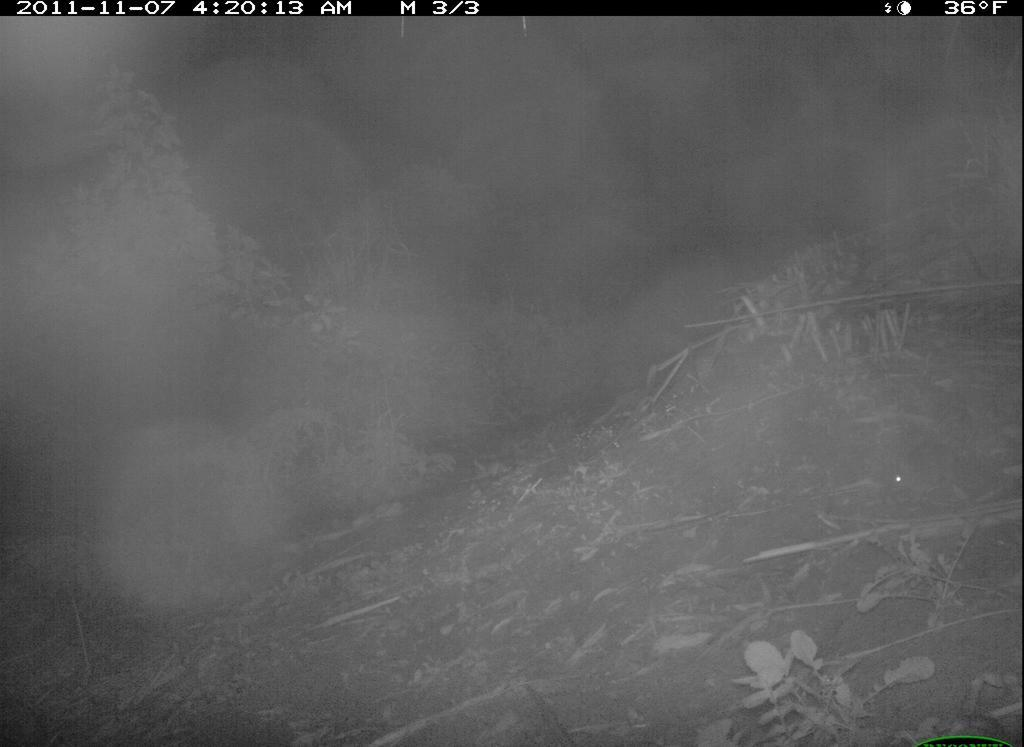rabbit: (888, 434, 962, 501)
